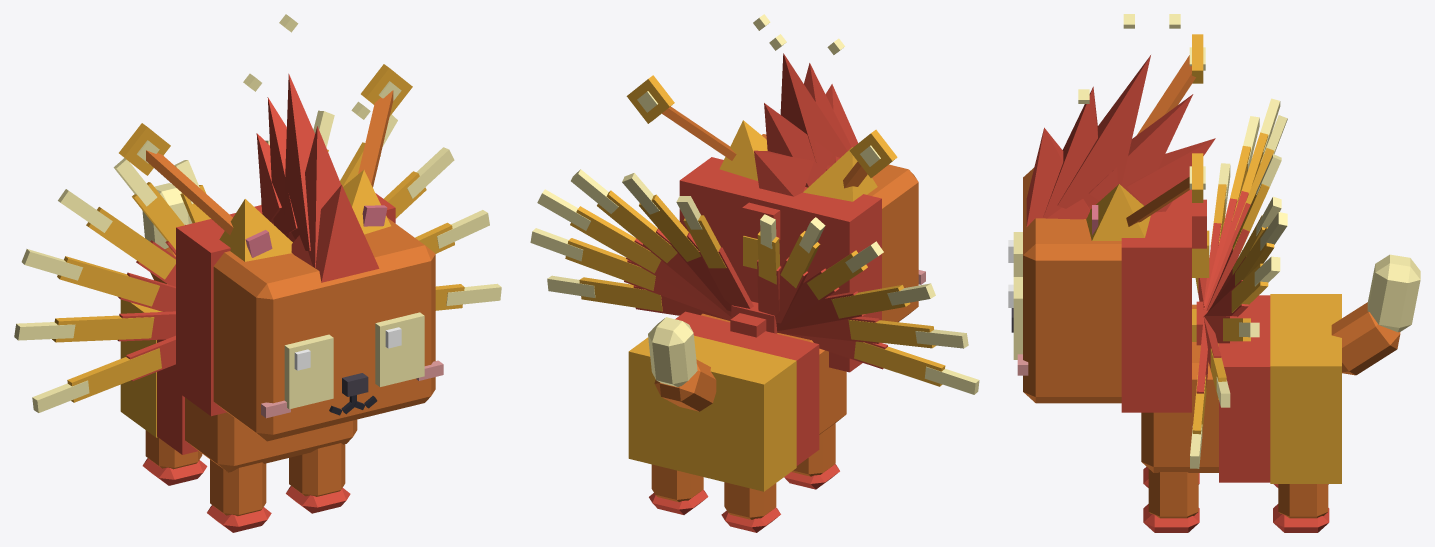
The model's file is CatCafe_Cat_Phoenix.fbx.
3 views of the same model, side by side, from view 1: azimuth 30°, elevation 25°; view 2: azimuth 150°, elevation 25°; view 3: azimuth 270°, elevation 25° (orthographic). The views are drawn at different scales.
Visible parts, largest first — view 1: CatCafe_Cat_Phoenix_Head, CatCafe_Cat_Phoenix_Wings_Glow, CatCafe_Cat_Phoenix_Prop, CatCafe_Cat_Phoenix_Body, CatCafe_Cat_Phoenix_LegF2, CatCafe_Cat_Phoenix_LegF1, CatCafe_Cat_Phoenix_Eye1, CatCafe_Cat_Phoenix_Eye2, CatCafe_Cat_Phoenix_Glow, CatCafe_Cat_Phoenix_Prop2, CatCafe_Cat_Phoenix_EarR, CatCafe_Cat_Phoenix_LegB2 (+2 smaller); view 2: CatCafe_Cat_Phoenix_Body, CatCafe_Cat_Phoenix_Wings_Glow, CatCafe_Cat_Phoenix_Head, CatCafe_Cat_Phoenix_Prop2, CatCafe_Cat_Phoenix_Prop, CatCafe_Cat_Phoenix_Tail, CatCafe_Cat_Phoenix_Glow, CatCafe_Cat_Phoenix_LegB2, CatCafe_Cat_Phoenix_LegB1, CatCafe_Cat_Phoenix_LegF2, CatCafe_Cat_Phoenix_EarR, CatCafe_Cat_Phoenix_EarL; view 3: CatCafe_Cat_Phoenix_Head, CatCafe_Cat_Phoenix_Body, CatCafe_Cat_Phoenix_Prop, CatCafe_Cat_Phoenix_Wings_Glow, CatCafe_Cat_Phoenix_Tail, CatCafe_Cat_Phoenix_Prop2, CatCafe_Cat_Phoenix_LegF1, CatCafe_Cat_Phoenix_LegB1, CatCafe_Cat_Phoenix_EarL, CatCafe_Cat_Phoenix_Glow, CatCafe_Cat_Phoenix_Eye1, CatCafe_Cat_Phoenix_Eye2.
Part boxes in pixels (left/top/right/bottom): CatCafe_Cat_Phoenix_Head: left=176, top=193, right=443, bottom=441; CatCafe_Cat_Phoenix_Wings_Glow: left=14, top=110, right=501, bottom=412; CatCafe_Cat_Phoenix_Prop: left=146, top=73, right=393, bottom=282; CatCafe_Cat_Phoenix_Body: left=120, top=299, right=357, bottom=472; CatCafe_Cat_Phoenix_LegF2: left=207, top=459, right=271, bottom=532; CatCafe_Cat_Phoenix_LegF1: left=286, top=443, right=350, bottom=513; CatCafe_Cat_Phoenix_Eye1: left=375, top=312, right=424, bottom=386; CatCafe_Cat_Phoenix_Eye2: left=284, top=334, right=333, bottom=409; CatCafe_Cat_Phoenix_Glow: left=119, top=14, right=412, bottom=175; CatCafe_Cat_Phoenix_Prop2: left=117, top=225, right=185, bottom=381; CatCafe_Cat_Phoenix_EarR: left=219, top=199, right=292, bottom=261; CatCafe_Cat_Phoenix_LegB2: left=142, top=430, right=207, bottom=485; CatCafe_Cat_Phoenix_Body: left=628, top=311, right=846, bottom=491; CatCafe_Cat_Phoenix_Wings_Glow: left=530, top=169, right=979, bottom=394; CatCafe_Cat_Phoenix_Head: left=679, top=134, right=925, bottom=372; CatCafe_Cat_Phoenix_Prop2: left=624, top=228, right=887, bottom=369; CatCafe_Cat_Phoenix_Prop: left=662, top=53, right=867, bottom=196; CatCafe_Cat_Phoenix_Tail: left=648, top=317, right=716, bottom=411; CatCafe_Cat_Phoenix_Glow: left=626, top=14, right=897, bottom=177; CatCafe_Cat_Phoenix_LegB2: left=721, top=482, right=780, bottom=532; CatCafe_Cat_Phoenix_LegB1: left=649, top=464, right=708, bottom=514; CatCafe_Cat_Phoenix_LegF2: left=784, top=423, right=839, bottom=489; CatCafe_Cat_Phoenix_EarR: left=803, top=147, right=877, bottom=201; CatCafe_Cat_Phoenix_EarL: left=719, top=120, right=767, bottom=180; CatCafe_Cat_Phoenix_Head: left=1011, top=167, right=1209, bottom=412; CatCafe_Cat_Phoenix_Body: left=1141, top=294, right=1341, bottom=483; CatCafe_Cat_Phoenix_Prop: left=1026, top=55, right=1215, bottom=226; CatCafe_Cat_Phoenix_Wings_Glow: left=1190, top=98, right=1287, bottom=468; CatCafe_Cat_Phoenix_Tail: left=1331, top=254, right=1420, bottom=375; CatCafe_Cat_Phoenix_Prop2: left=1196, top=191, right=1250, bottom=393; CatCafe_Cat_Phoenix_LegF1: left=1143, top=469, right=1199, bottom=532; CatCafe_Cat_Phoenix_LegB1: left=1273, top=484, right=1329, bottom=532; CatCafe_Cat_Phoenix_EarL: left=1086, top=184, right=1150, bottom=240; CatCafe_Cat_Phoenix_Glow: left=1078, top=14, right=1205, bottom=202; CatCafe_Cat_Phoenix_Eye1: left=1008, top=277, right=1022, bottom=359; CatCafe_Cat_Phoenix_Eye2: left=1008, top=232, right=1022, bottom=276.
Size of the model in its own units: 2.63 by 2.63 by 1.97.
1 material, 1 textured.
